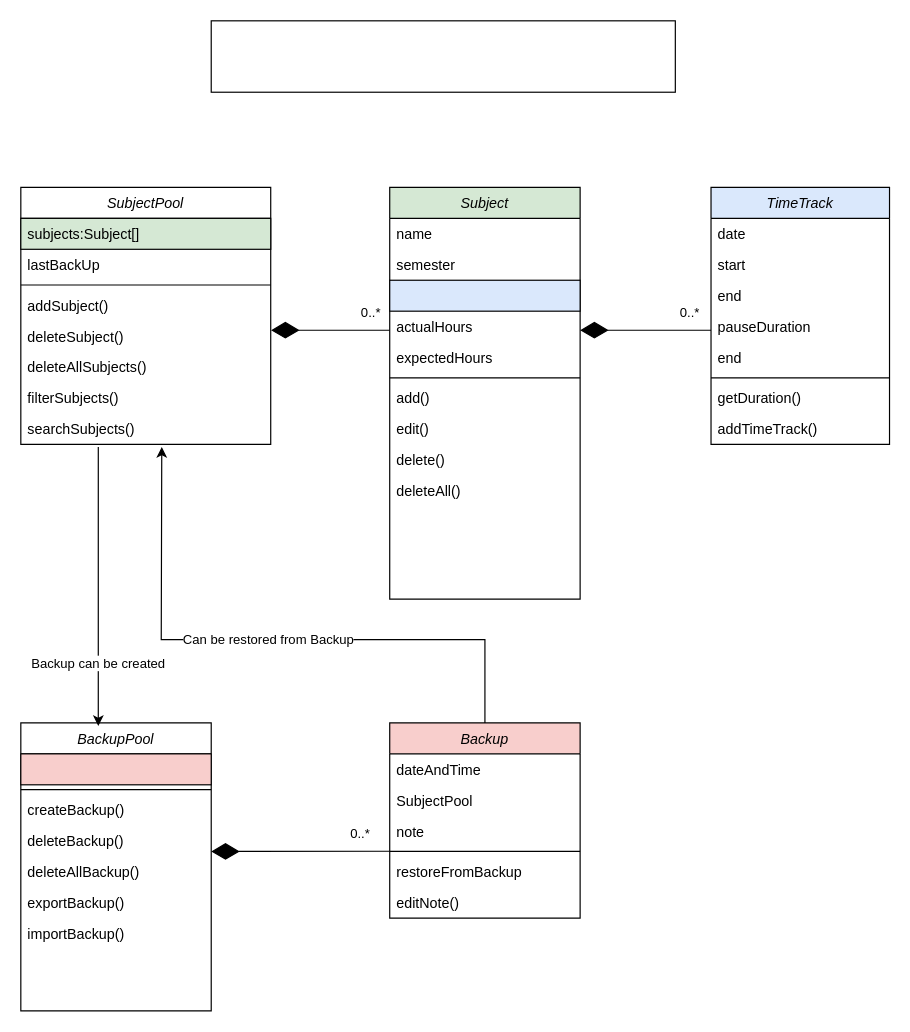
This 910x1032 diagram has some shape labels left out. Here are the shapes that lost their labels. From the top down, the box of each, then its label:
(210, 20, 675, 92): Class diagram
(389, 279, 580, 311): timeTracker:TimeTrack[]
(20, 753, 211, 785): backups:Backup[]
